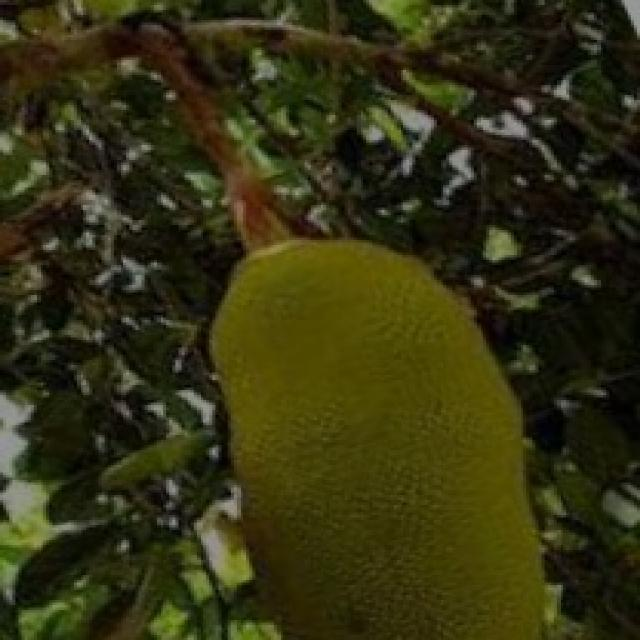Fruit: (184, 215, 616, 640)
